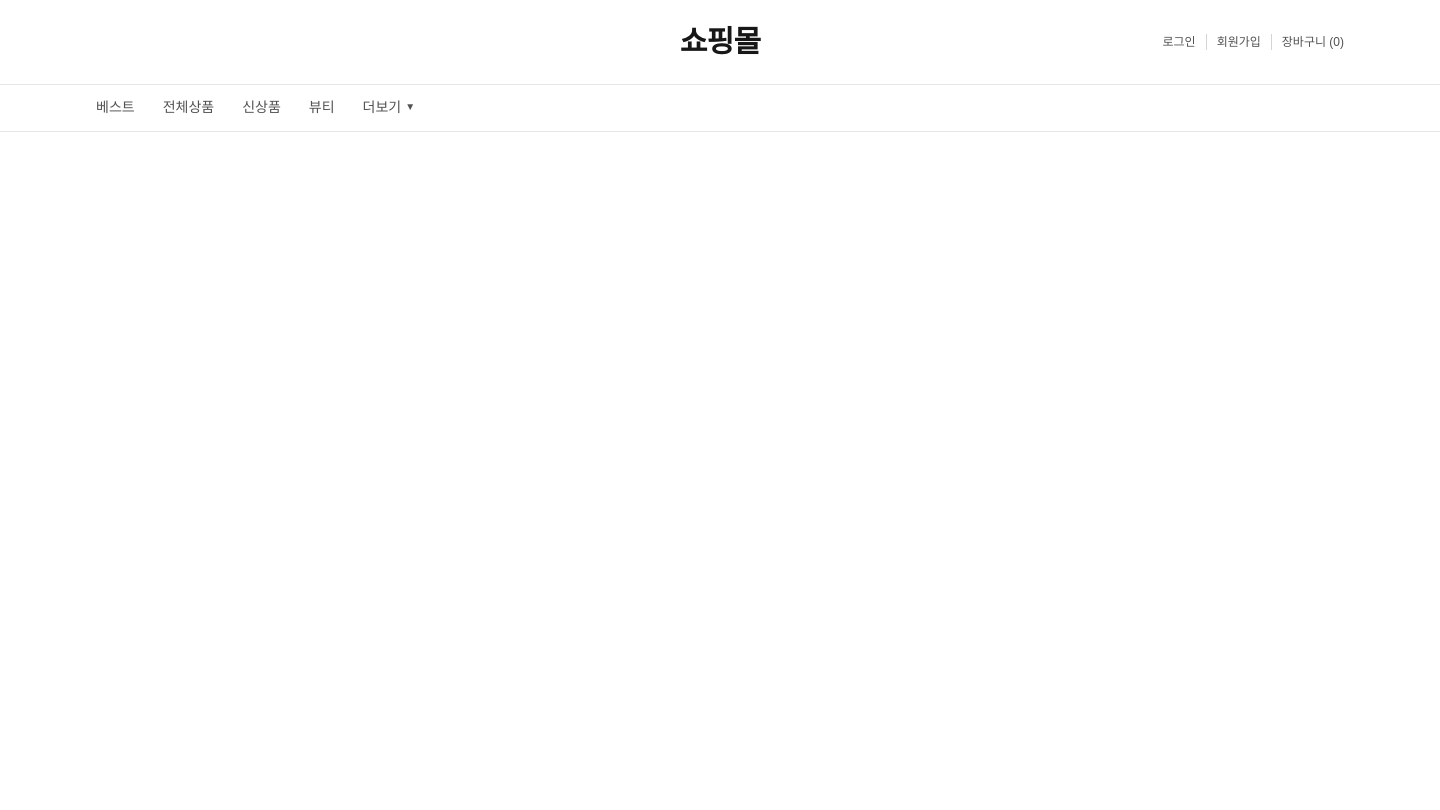
Scenario: Header 더보기 › 메뉴가 한 줄에 다 안 들어갈 때 › 성공: 바깥을 누르면 닫힌다
The width and height of the screenshot is (1440, 810).
Click the button "더보기 ▼".
click(389, 108)  # box 363,85 -> 415,131
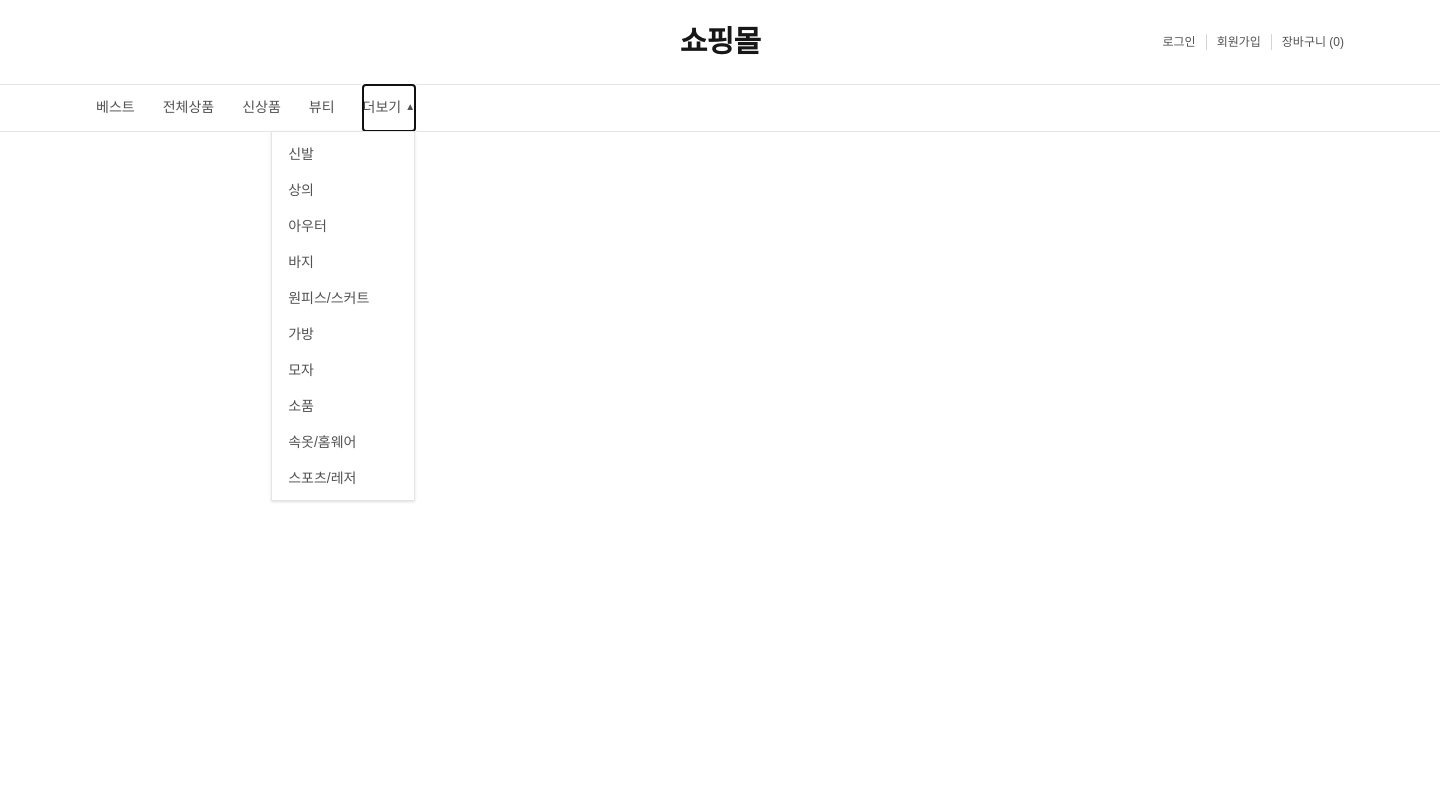
Expected: the link "스포츠/레저" is shown, 288,470 -> 356,486
Click the element that starts with "쇼핑몰".
click(720, 405)  # box 0,0 -> 1439,809
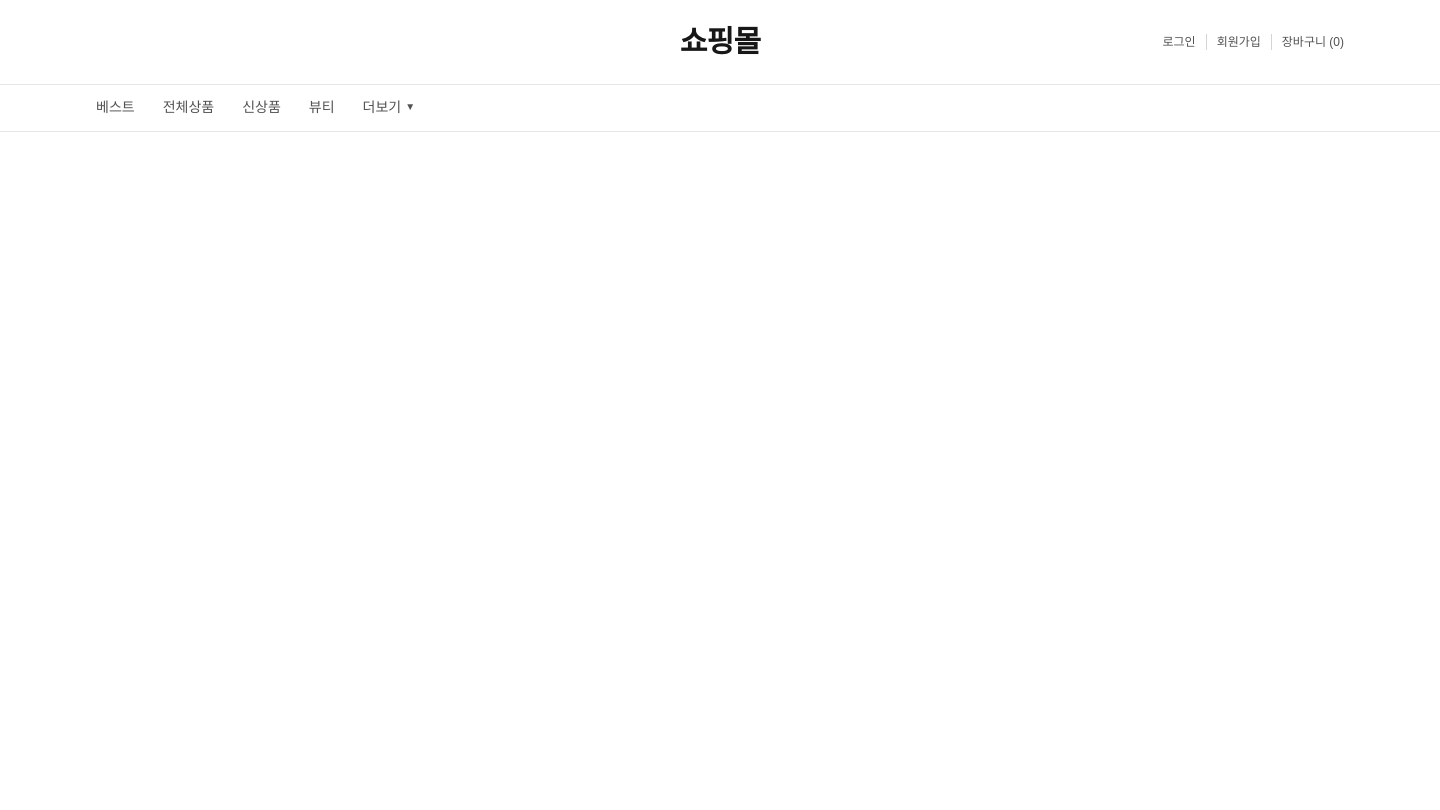
Expected: the link "스포츠/레저" is gone
